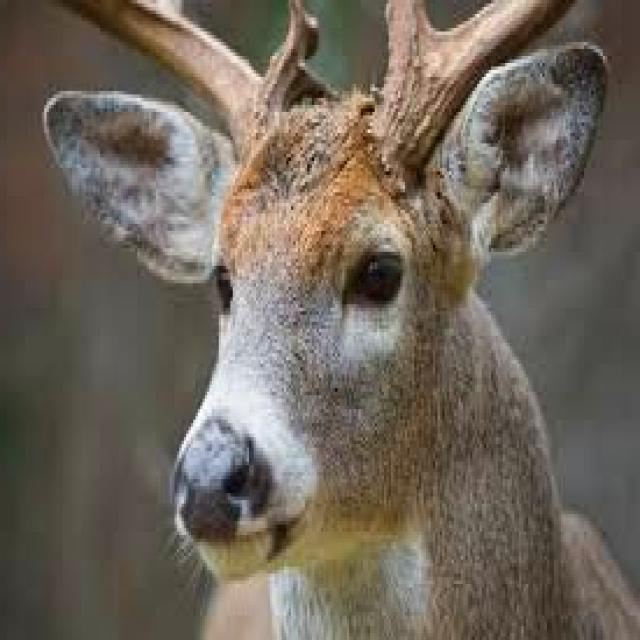deer: (47, 0, 640, 637)
